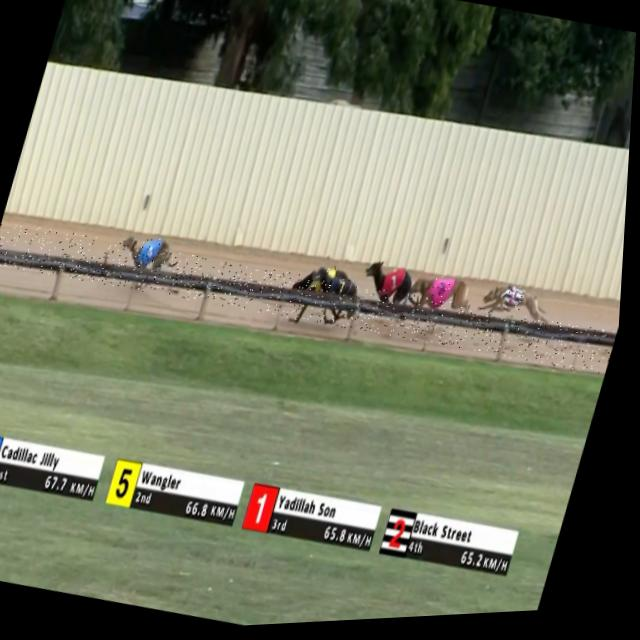dog_eight: (430, 278, 458, 313)
dog_five: (309, 263, 341, 304)
dog_four: (139, 235, 167, 273)
dog_one: (384, 270, 407, 303)
dog_seven: (334, 279, 357, 305)
dog_two: (505, 289, 529, 318)
rail: (0, 249, 621, 355)
